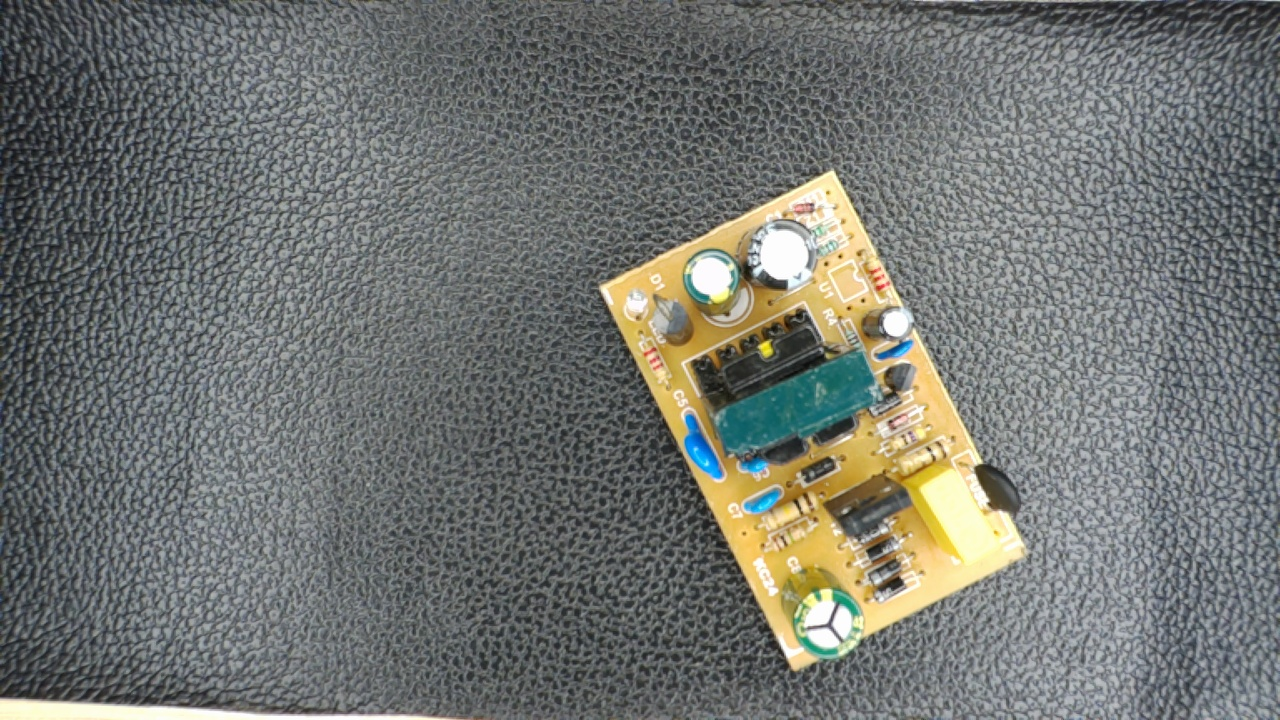fuse: (951, 452, 1026, 522)
hv_capacitor: (780, 566, 870, 665)
mov: (675, 405, 729, 486)
